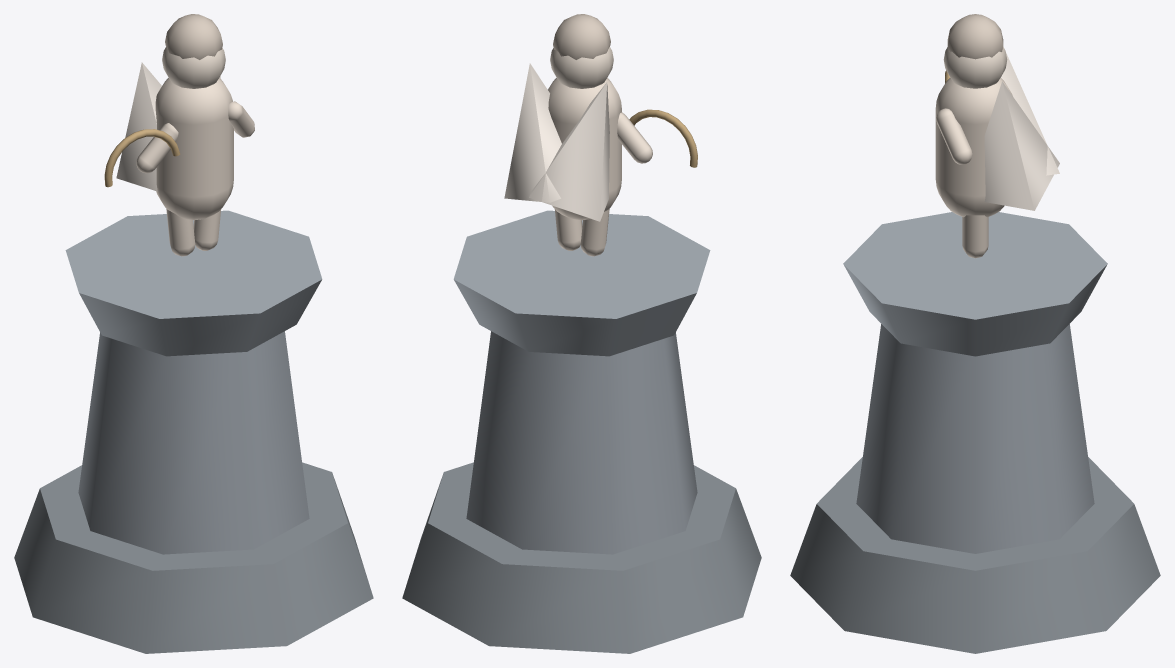
Rendered from cupid-authored-body-authored-atlas.glb.
The picture shows the model from 3 angles, left to right: view 1: azimuth 30°, elevation 25°; view 2: azimuth 150°, elevation 25°; view 3: azimuth 270°, elevation 25°; orthographic projection.
Parts seen in each view (by area): view 1: Authored surface.020; view 2: Authored surface.020; view 3: Authored surface.020.
Part boxes in pixels (<box>): Authored surface.020: <box>14,14,373,653</box>; Authored surface.020: <box>402,14,761,653</box>; Authored surface.020: <box>790,14,1160,653</box>.
Bounding box in the file's own units: 1.4 × 2.33 × 1.4.
Materials: 1 (1 with a texture image).
